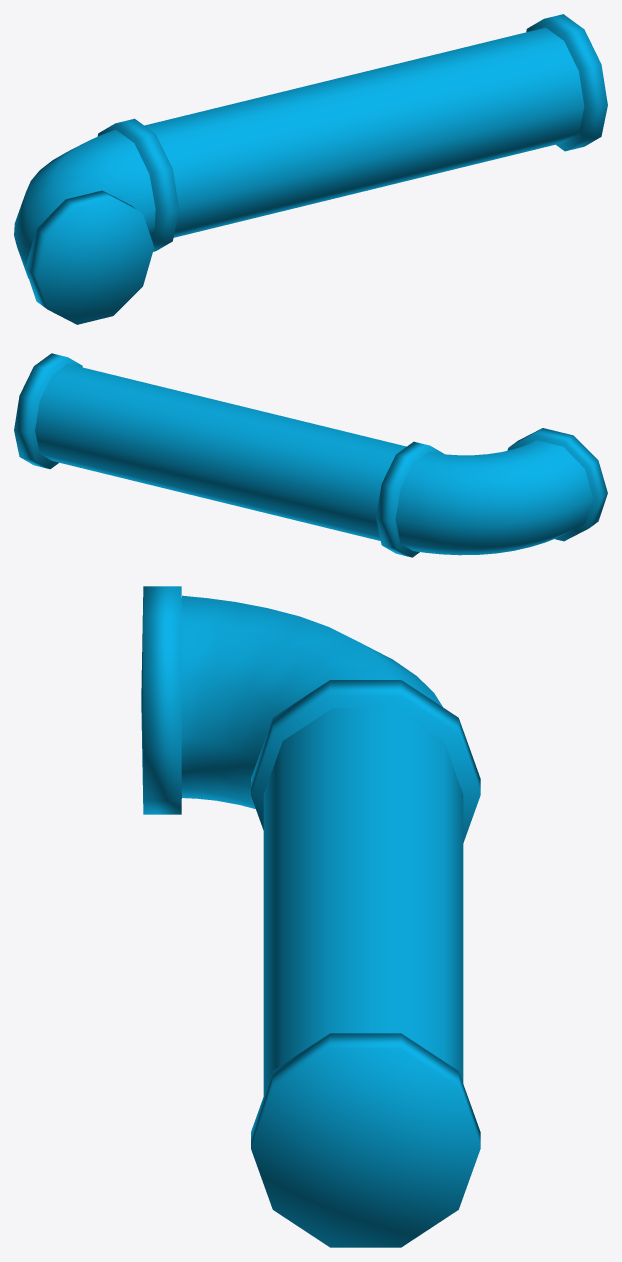
Rendered from Factory_Pipe_07_Lod0.fbx.
3 renders of one model, top to bottom at view 1: azimuth 30°, elevation 25°; view 2: azimuth 150°, elevation 25°; view 3: azimuth 270°, elevation 25°, orthographic. The views are drawn at different scales.
Visible parts, largest first — view 1: Factory_Pipe_07_Lod0; view 2: Factory_Pipe_07_Lod0; view 3: Factory_Pipe_07_Lod0.
Part boxes in pixels (bbox=[...]): Factory_Pipe_07_Lod0: bbox=[14, 14, 607, 324]; Factory_Pipe_07_Lod0: bbox=[14, 353, 607, 557]; Factory_Pipe_07_Lod0: bbox=[141, 586, 480, 1247].
Bounding box in the file's own units: 223 × 41.41 × 64.07.
